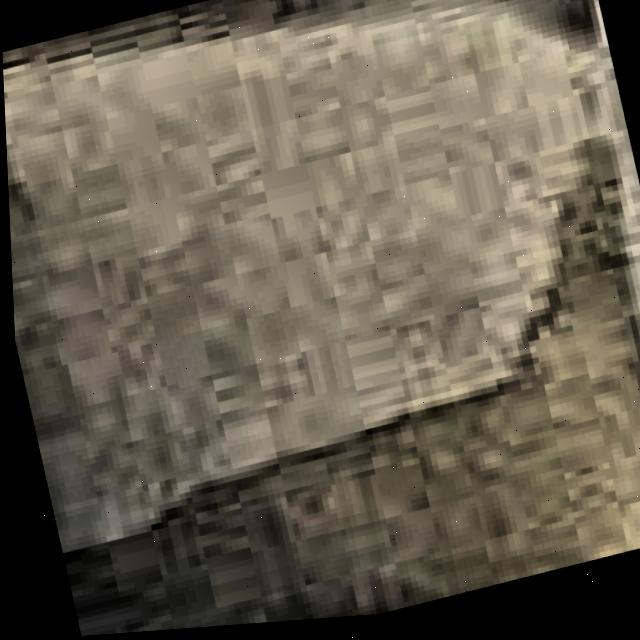paper: (2, 0, 640, 637)
